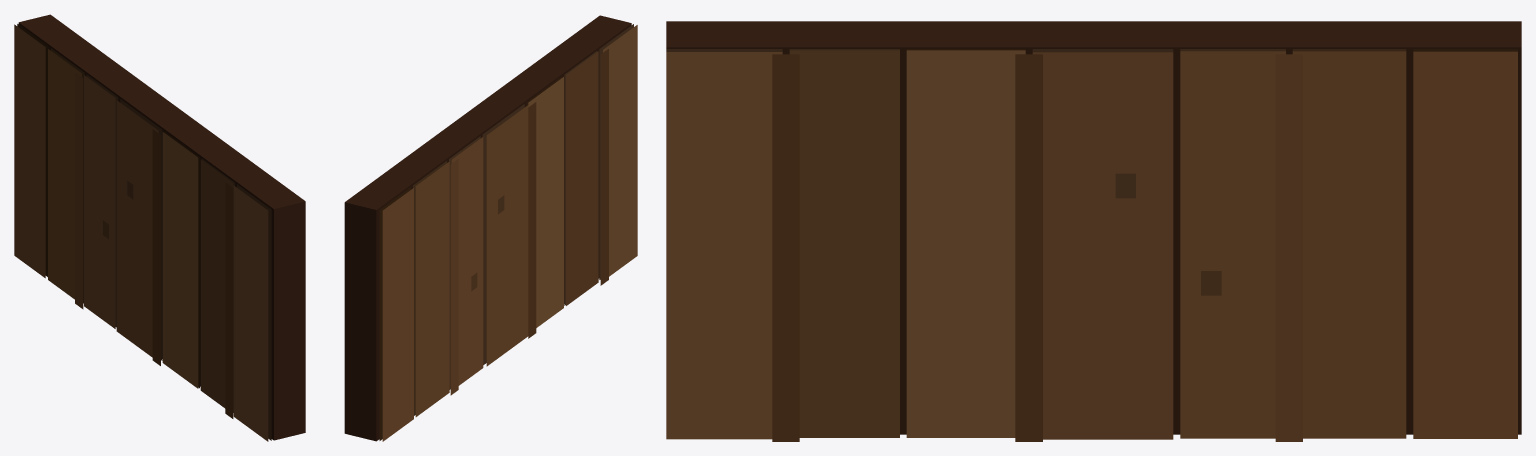
File: wall-timber-half.glb
3 views of the same model, side by side, from view 1: azimuth 30°, elevation 25°; view 2: azimuth 150°, elevation 25°; view 3: azimuth 270°, elevation 25° (orthographic). The views are drawn at different scales.
Parts seen in each view (by area): view 1: wall-timber-half; view 2: wall-timber-half; view 3: wall-timber-half.
Boxes of the visible parts, x1,y1,x2,y2 form: wall-timber-half: (14,14,305,441); wall-timber-half: (344,15,637,441); wall-timber-half: (666,21,1521,441).
Bounding box in the file's own units: 0.112 × 0.5 × 1.
